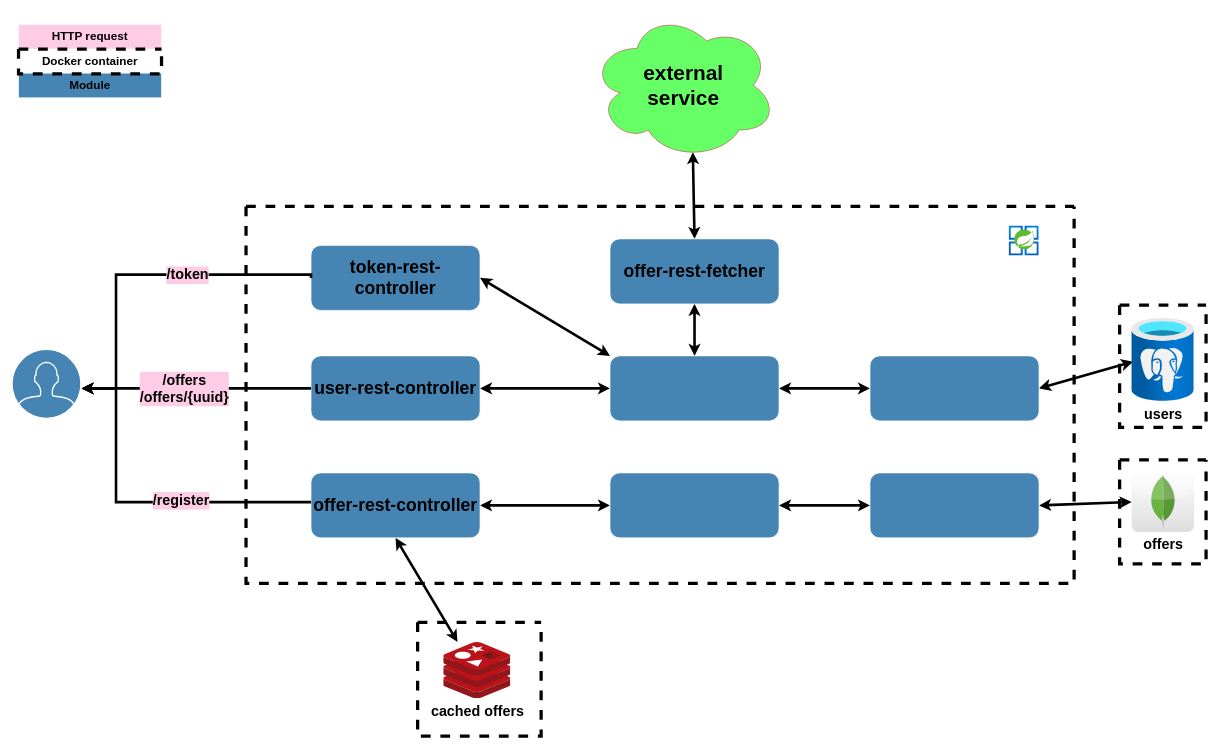
Some shapes in this 1219 by 749 pixel diagram are drawn without their labels. Here are the shapes that lost their labels. From the top down, the box of each, then its label:
(1009, 226, 1039, 256): Spring Boot application
(609, 355, 779, 421): user-service
(869, 355, 1039, 421): user-DAO
(609, 472, 779, 538): offer-service
(869, 472, 1039, 538): offer-DAO
